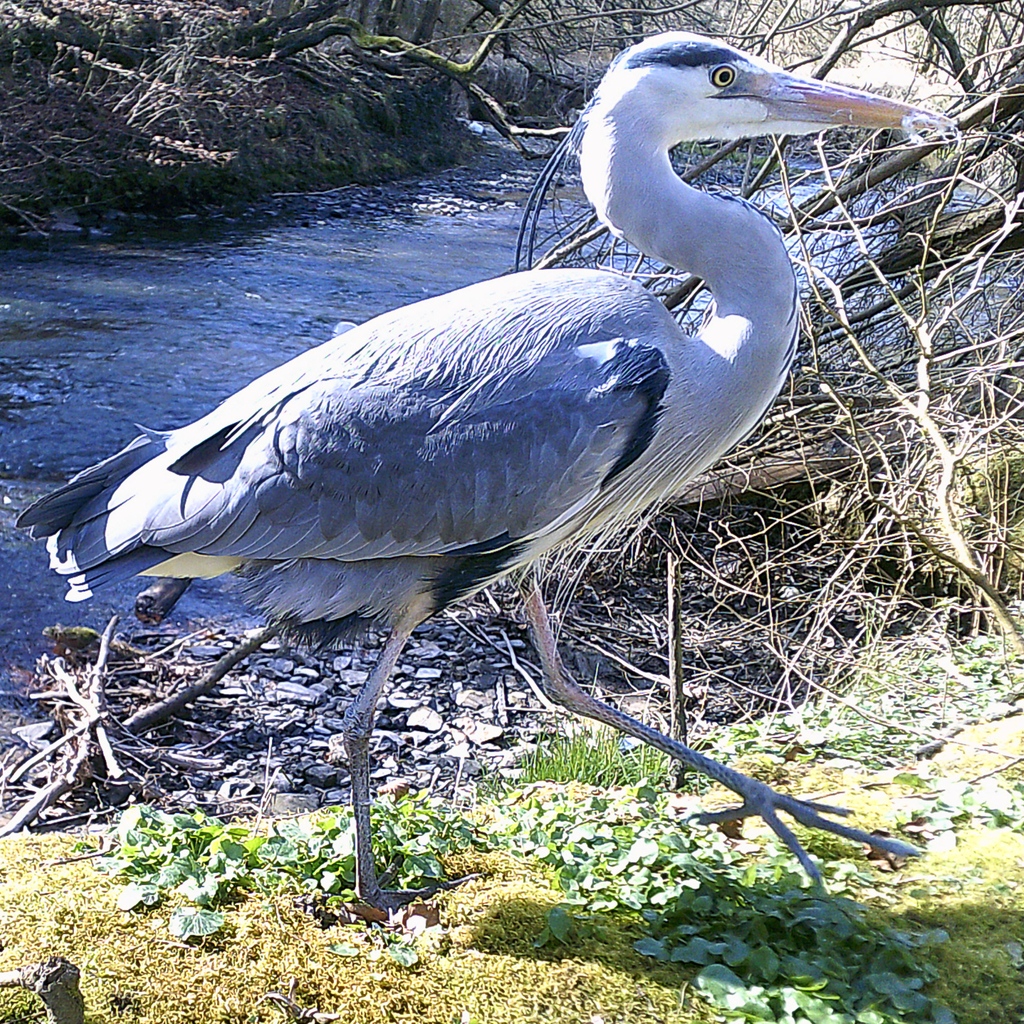heron: (15, 28, 961, 922)
